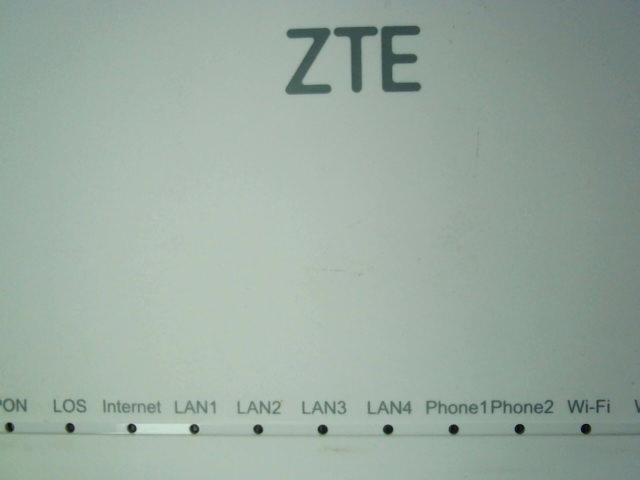AN_ZTE: (278, 22, 427, 99)
